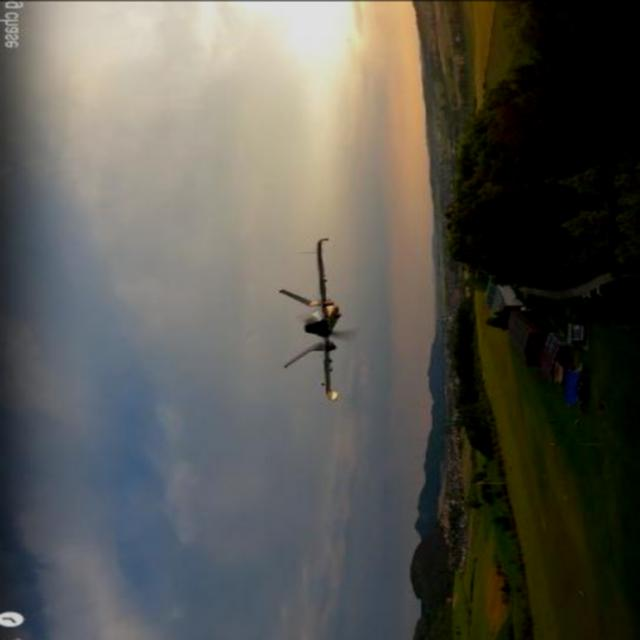plane: (275, 235, 350, 401)
